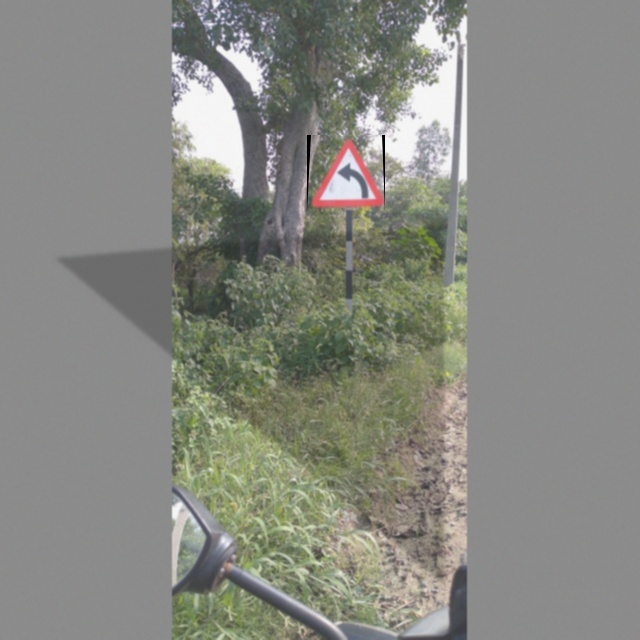Left_Hand_Curve: (307, 135, 385, 212)
